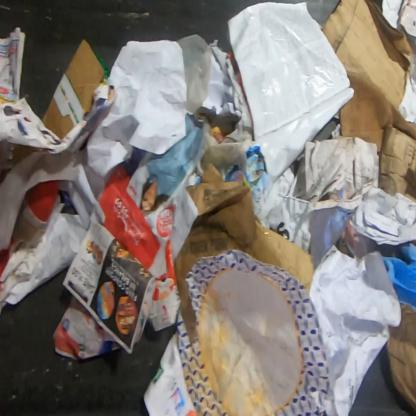cardboard: (173, 162, 316, 348), (321, 0, 415, 155), (41, 38, 105, 138), (387, 303, 415, 415), (378, 125, 415, 206), (0, 138, 34, 189)
